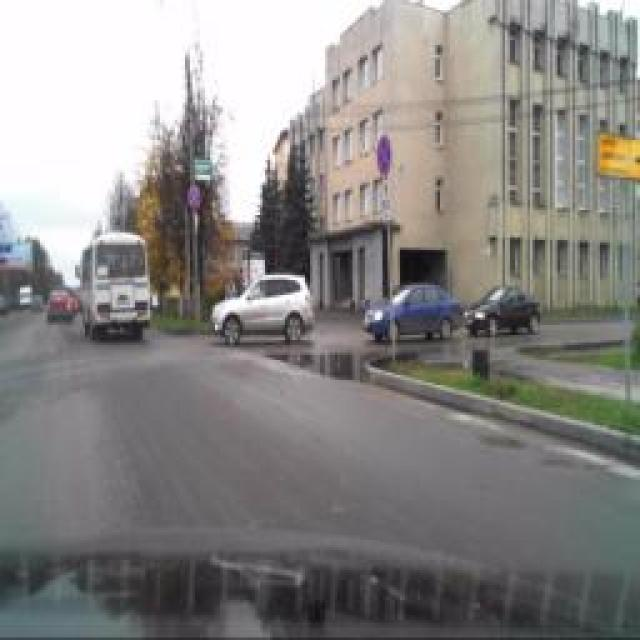sign: (376, 134, 392, 176), (186, 184, 202, 206)
